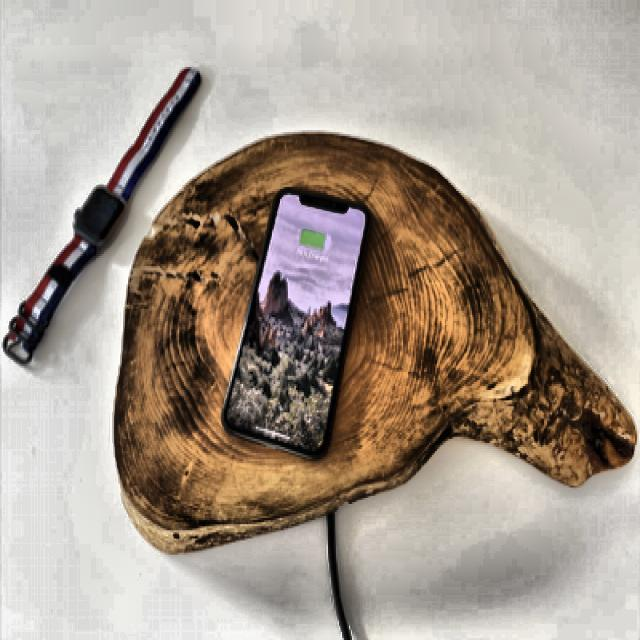Phone: (222, 185, 374, 462)
